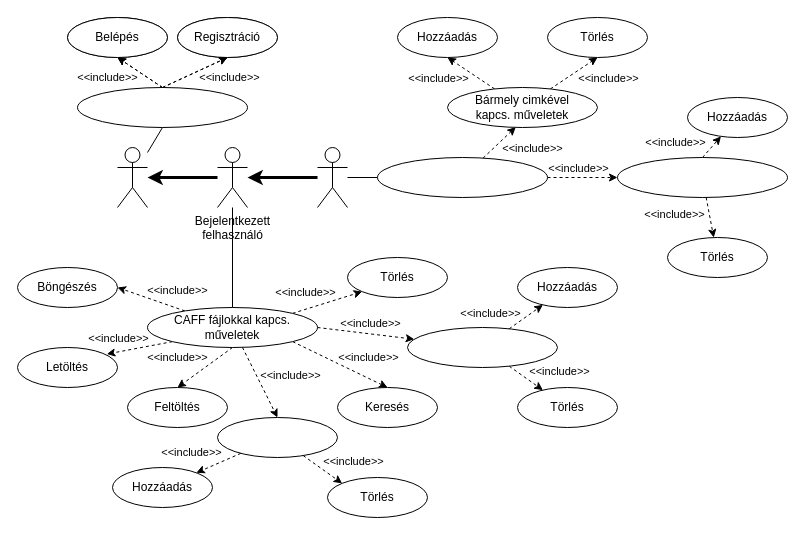
The diagram is 805 pixels wide and 535 high, and some of its shapes have lost their labels. Each missing label, with the centre of its shape:
"Adminisztrátor" belongs at (332,177).
"Bármely megjegyzéssel kapcs. műveletek" belongs at (702,177).
"CAFF fájlokkal kapcs. admin műveletek" belongs at (462,177).
"Felhasználó" belongs at (132,177).
"Fiókműveletek" belongs at (162,107).
"Saját cimkékkel kapcs. műveletek" belongs at (277,437).
"Saját megjegyzésekkel kapcs. műveletek" belongs at (482,347).
